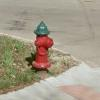Hydrant: (28, 12, 59, 78)
